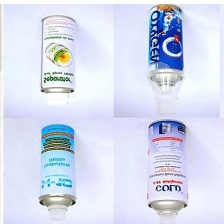aerosol_cans: (144, 117, 189, 224), (35, 120, 80, 223), (37, 13, 78, 108), (144, 2, 185, 95)
